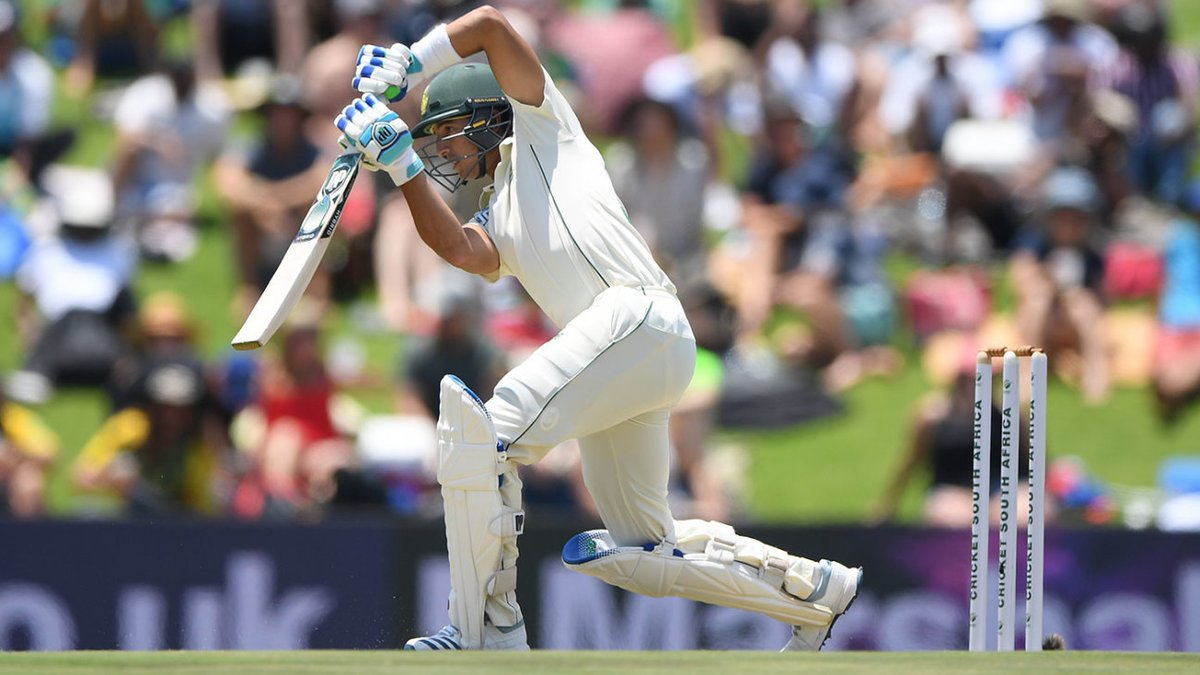Defence: (168, 5, 918, 672)
